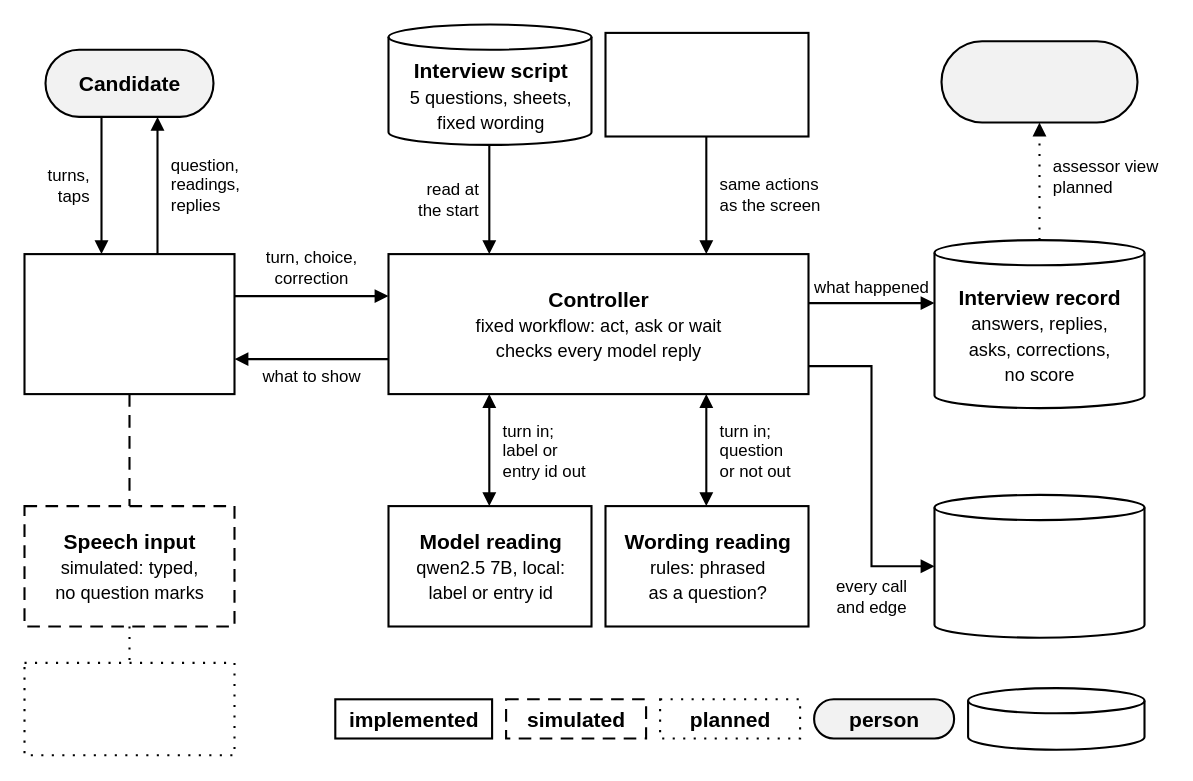
Some shapes in this 1193 by 781 pixel diagram are drawn without their labels. Each missing label, with the centre of its shape:
"Human assessor does the scoring" belongs at [1039,81].
"Real speech recognition, voice" belongs at [129,708].
"Replay harness scripted turns, saved interviews" belongs at [706,84].
"Screen question, readings, buttons, state" belongs at [129,323].
"stored data" belongs at [1055,718].
"Trace sent, reply, edge taken" belongs at [1039,565].
